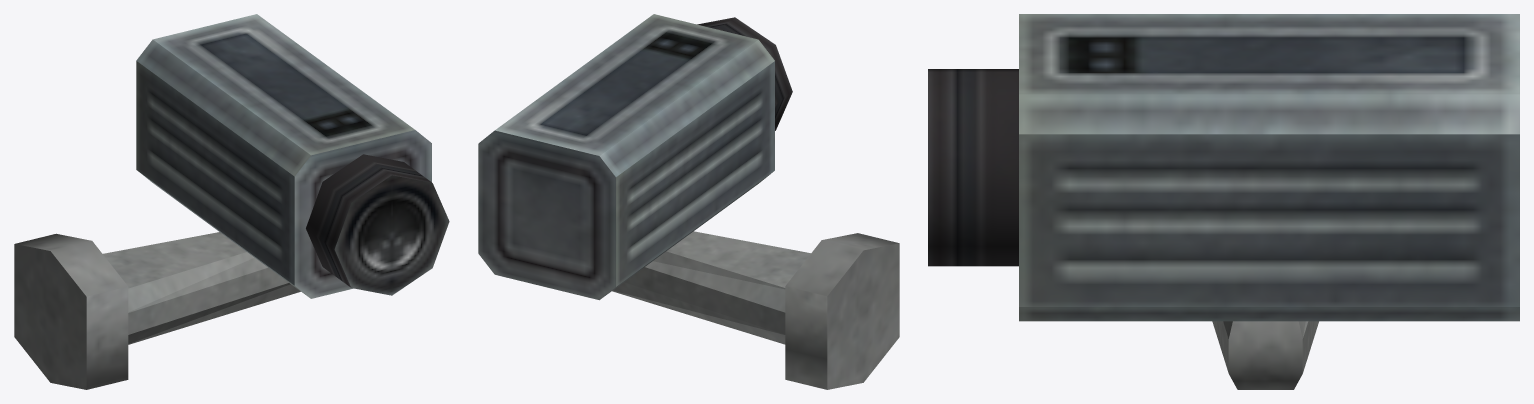
The model's file is Camera3_R.FBX.
The picture shows the model from 3 angles, left to right: view 1: azimuth 30°, elevation 25°; view 2: azimuth 150°, elevation 25°; view 3: azimuth 270°, elevation 25°; orthographic projection. The views are drawn at different scales.
Visible parts, largest first — view 1: Camera3_R; view 2: Camera3_R; view 3: Camera3_R.
Boxes of the visible parts, x1,y1,x2,y2 form: Camera3_R: (14,14,449,389); Camera3_R: (478,14,899,389); Camera3_R: (928,14,1519,389).
Bounding box in the file's own units: 113 × 85.83 × 121.
